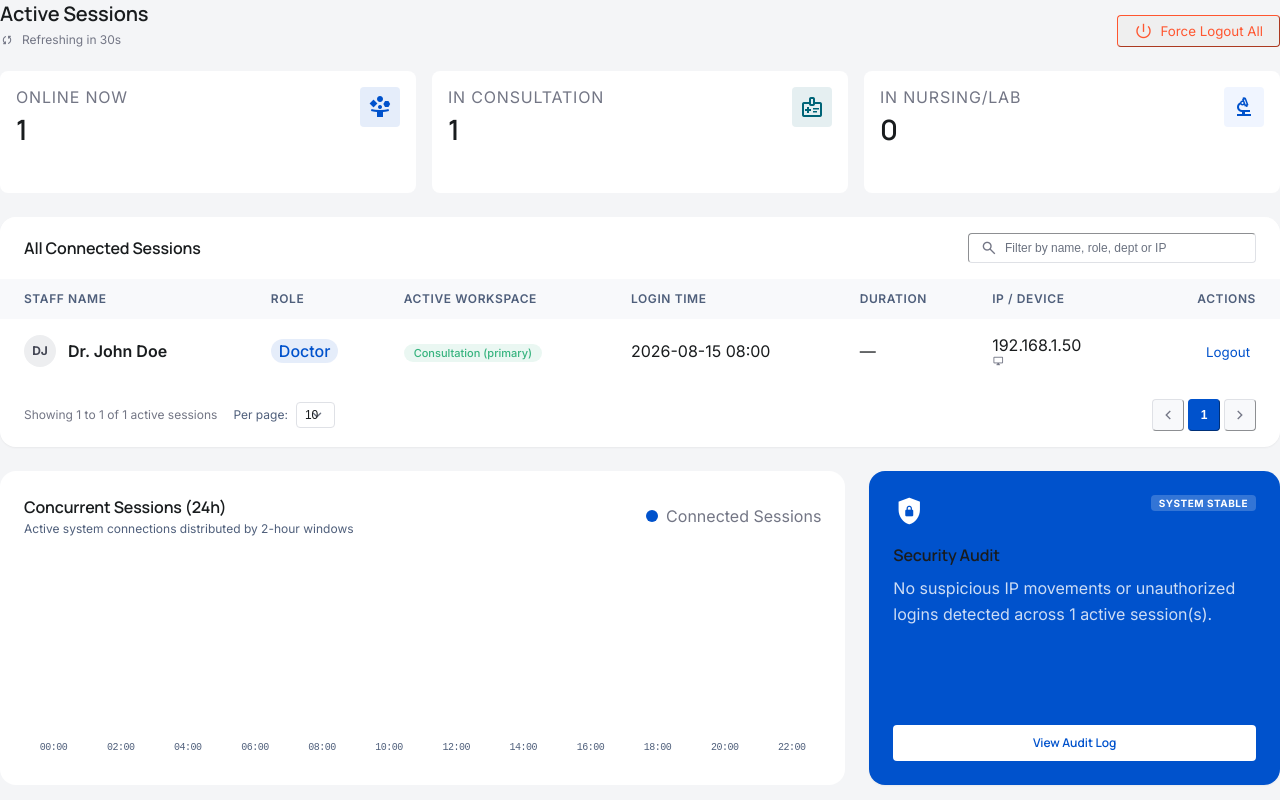
Test: ActiveSessionsPage › filters sessions by search input
Type "Nonexistent" into the field with placeholder "Filter by name, role, dept or IP" at (1112, 248), box [968,233,1256,263]
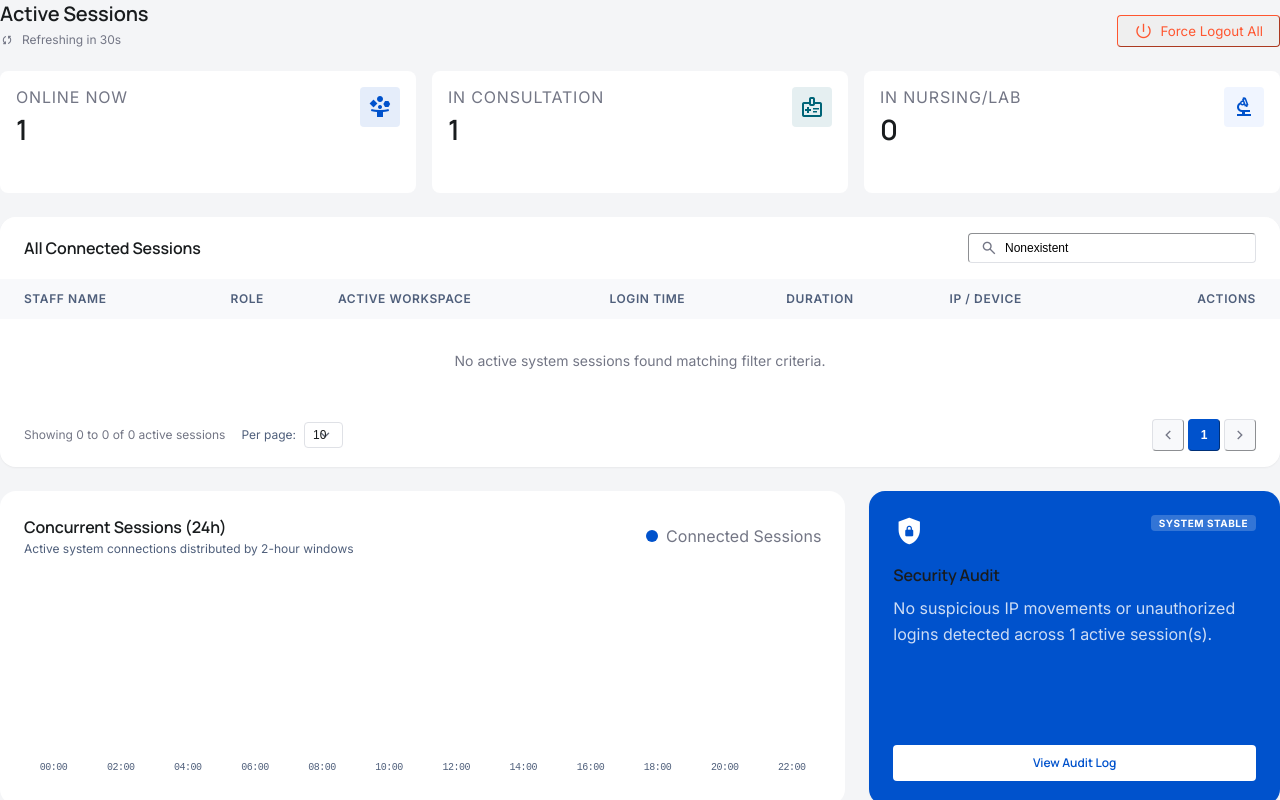
Result: the text "Dr. John Doe" is gone
